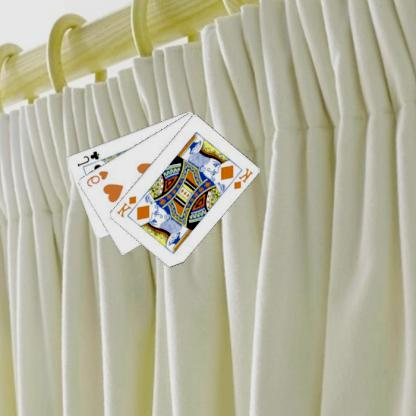6H: (86, 167, 111, 188)
JC: (76, 148, 102, 168)
KD: (115, 193, 139, 219), (233, 165, 256, 191)
